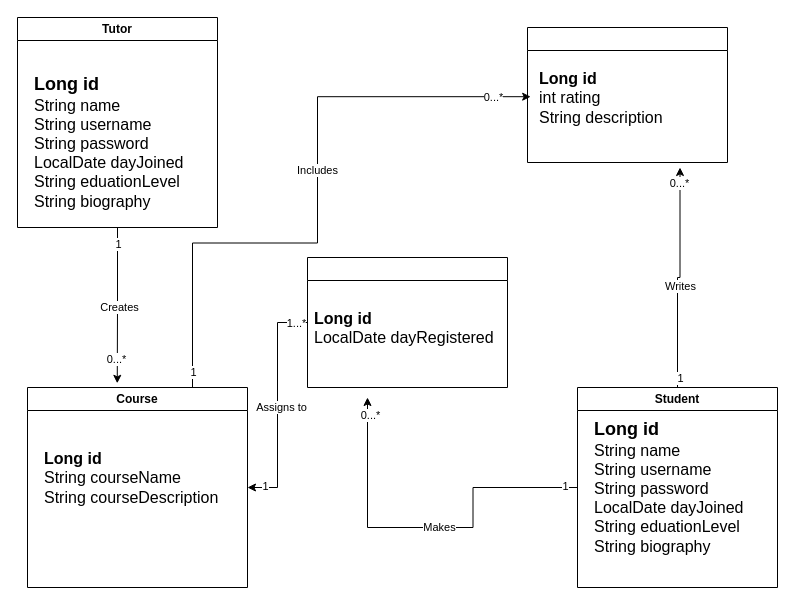
Image size: 795x605. Some labels were removed from this diagram. The box of each missing label's shape, as (x1, y1, x2, y2) in pixels:
Registration: (306, 256, 508, 388)
Review: (526, 26, 728, 162)
